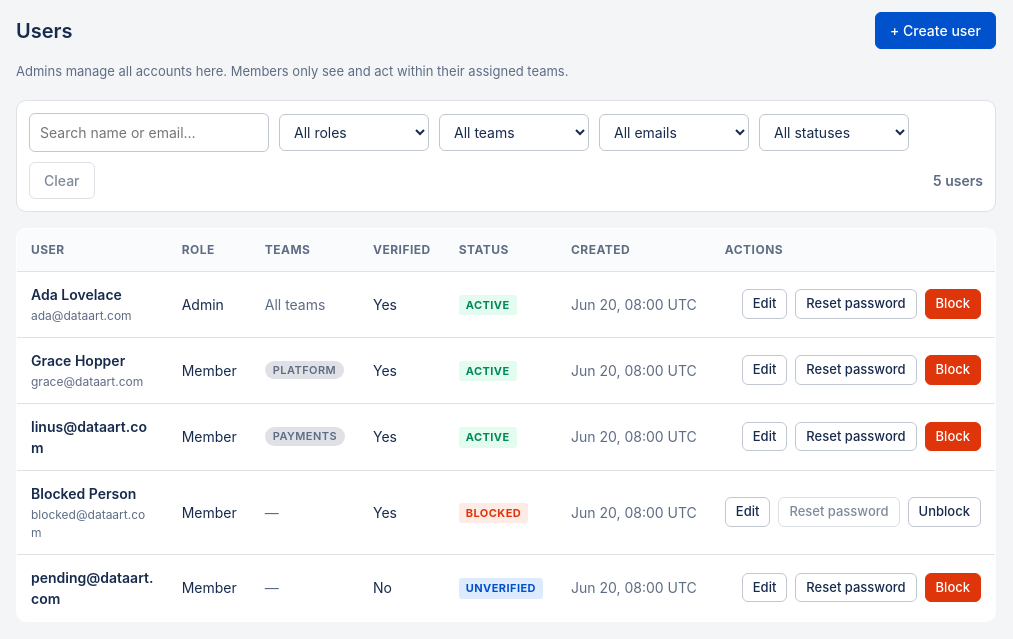
Scenario: UsersPage › filtering › filters by email verification
Expected: the text "Ada Lovelace" is shown, left=31, top=286, right=122, bottom=302
Select "Unverified" in the dropdown named "Filter by email verification": (674, 132) left=599, top=114, right=749, bottom=150
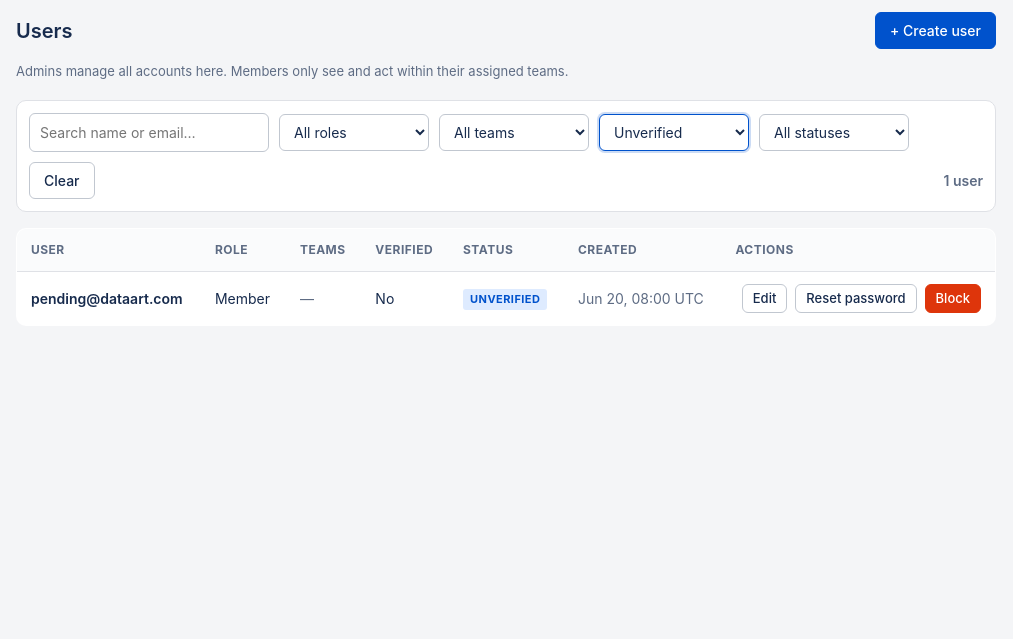
Expected: the text "pending@dataart.com" is shown, left=31, top=288, right=187, bottom=309
Expected: the text "Ada Lovelace" is gone
